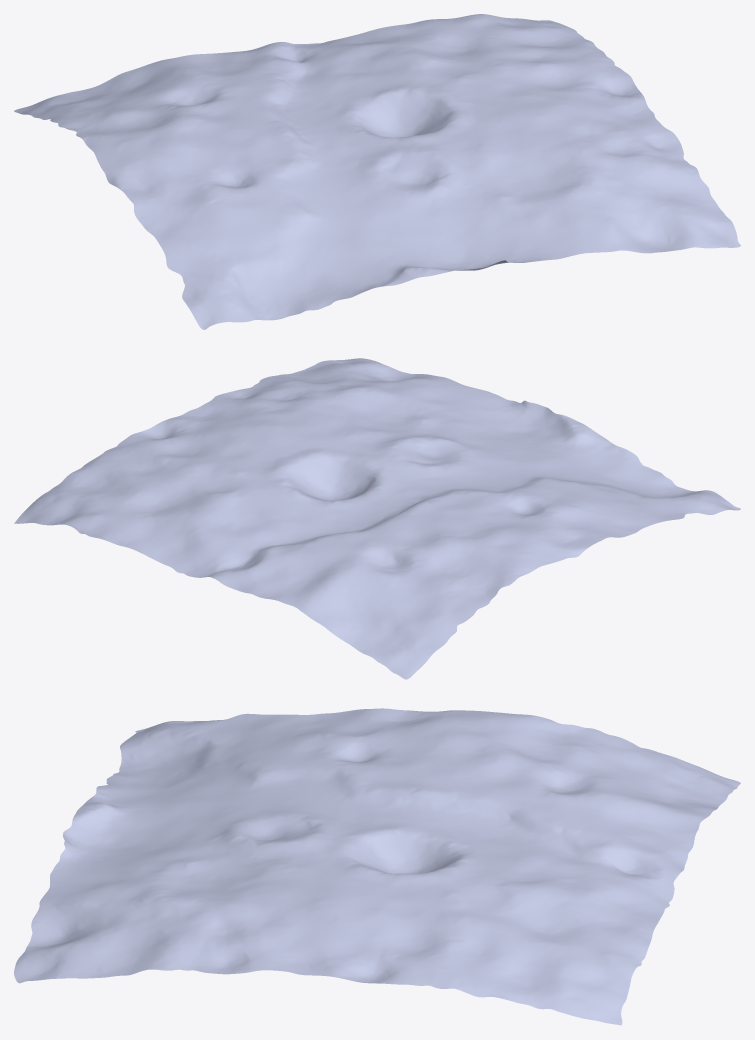
File: MAP2.fbx
3 renders of one model, top to bottom at view 1: azimuth 30°, elevation 25°; view 2: azimuth 150°, elevation 25°; view 3: azimuth 270°, elevation 25°, orthographic. The views are drawn at different scales.
Visible parts, largest first — view 1: PSYCHE_20170116_DEC.002; view 2: PSYCHE_20170116_DEC.002; view 3: PSYCHE_20170116_DEC.002.
Boxes of the visible parts, bbox=[...] form: PSYCHE_20170116_DEC.002: bbox=[14, 14, 740, 329]; PSYCHE_20170116_DEC.002: bbox=[14, 358, 740, 679]; PSYCHE_20170116_DEC.002: bbox=[14, 708, 740, 1025].
Size of the model in its own units: 56684 by 5344 by 57274.
